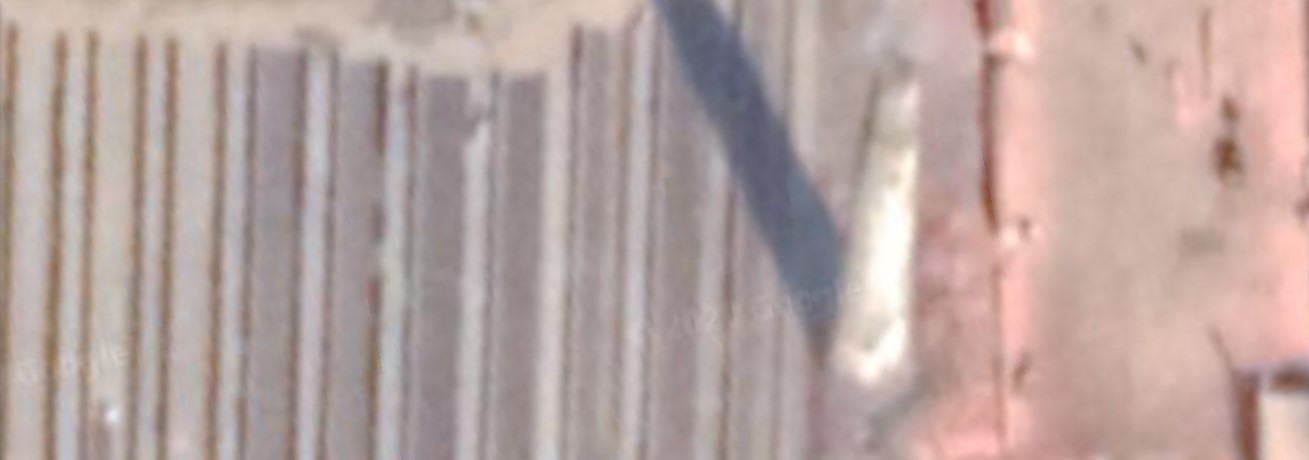kiln: (624, 2, 1088, 460)
